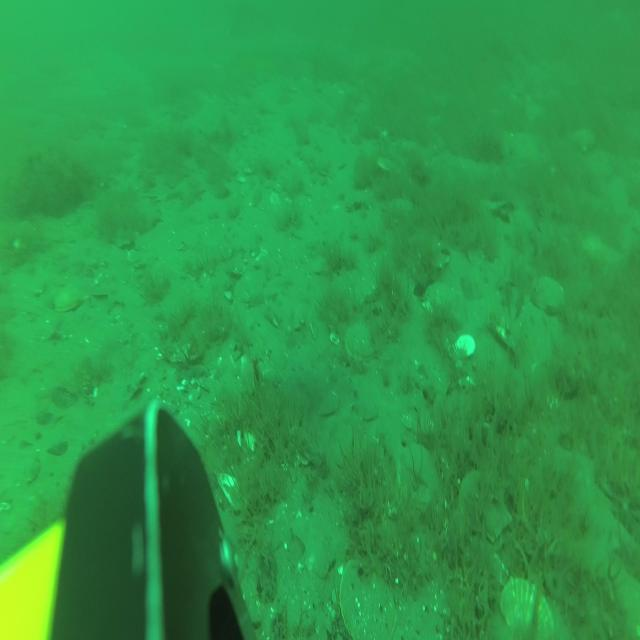scallop: (341, 554, 399, 640), (459, 465, 514, 544), (500, 572, 558, 640), (407, 227, 451, 270), (531, 271, 567, 313), (344, 322, 378, 366), (233, 265, 269, 305), (52, 284, 88, 315), (570, 124, 598, 155)
